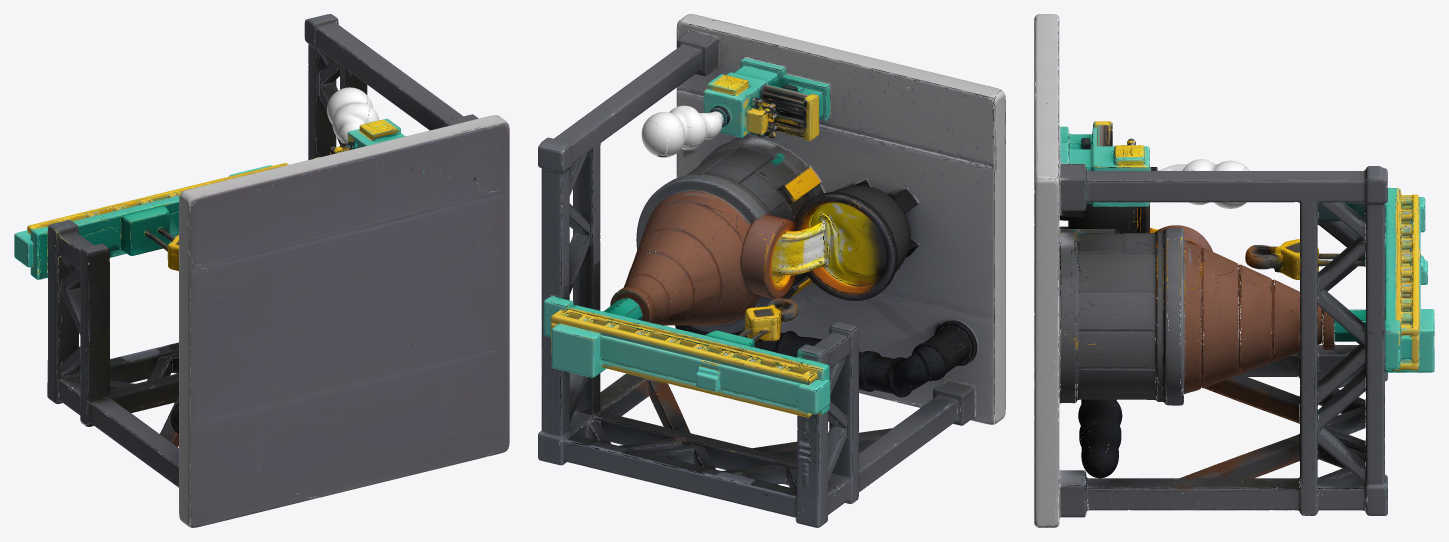
Rendered from liteyny-diorama.glb.
3 views of the same model, side by side, from view 1: azimuth 30°, elevation 25°; view 2: azimuth 150°, elevation 25°; view 3: azimuth 270°, elevation 25° (orthographic). The views are drawn at different scales.
Visible parts, largest first — view 1: foundry; view 2: foundry; view 3: foundry.
Boxes of the visible parts, x1,y1,x2,y2 form: foundry: (14,14,509,527); foundry: (538,14,1005,527); foundry: (1034,14,1434,527).
Size of the model in its own units: 5.28 by 5.2 by 5.37.
Materials: 1 (1 with a texture image).
